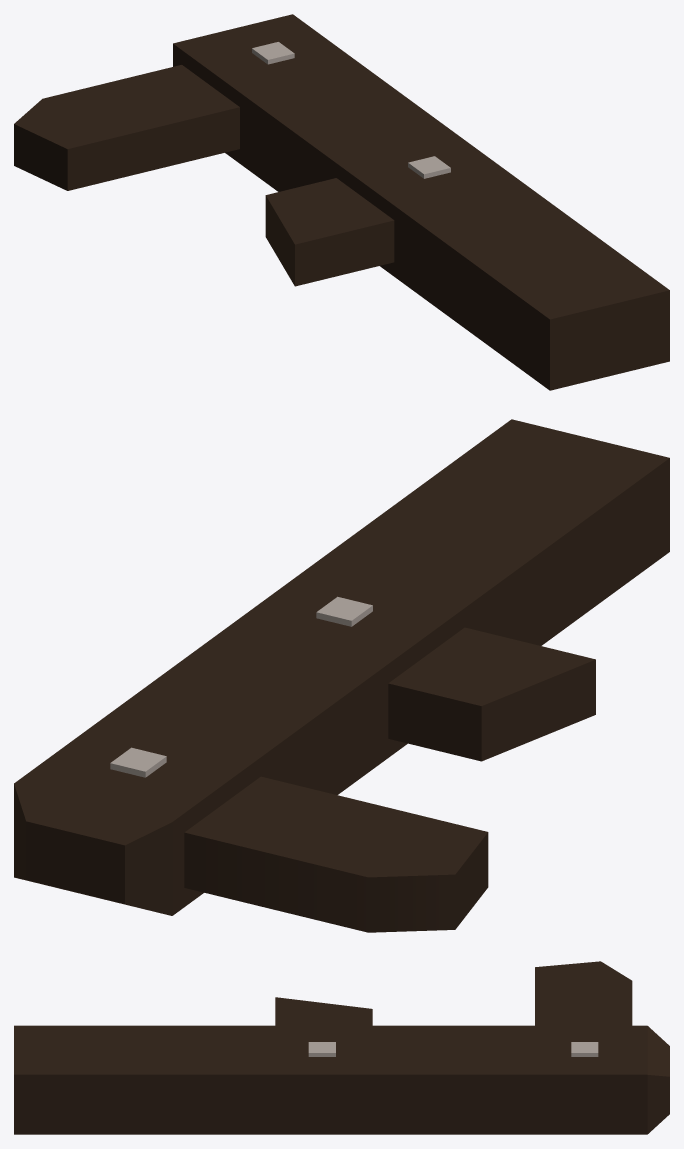
File: Fence 02.FBX
3 views of the same model, one above another, from view 1: azimuth 30°, elevation 25°; view 2: azimuth 150°, elevation 25°; view 3: azimuth 270°, elevation 25° (orthographic). The views are drawn at different scales.
Visible parts, largest first — view 1: Fence 02; view 2: Fence 02; view 3: Fence 02.
Part boxes in pixels (<box>): Fence 02: <box>14,14,669,390</box>; Fence 02: <box>14,419,669,932</box>; Fence 02: <box>14,961,669,1134</box>.
Size of the model in its own units: 37.98 by 83.75 by 9.68.
